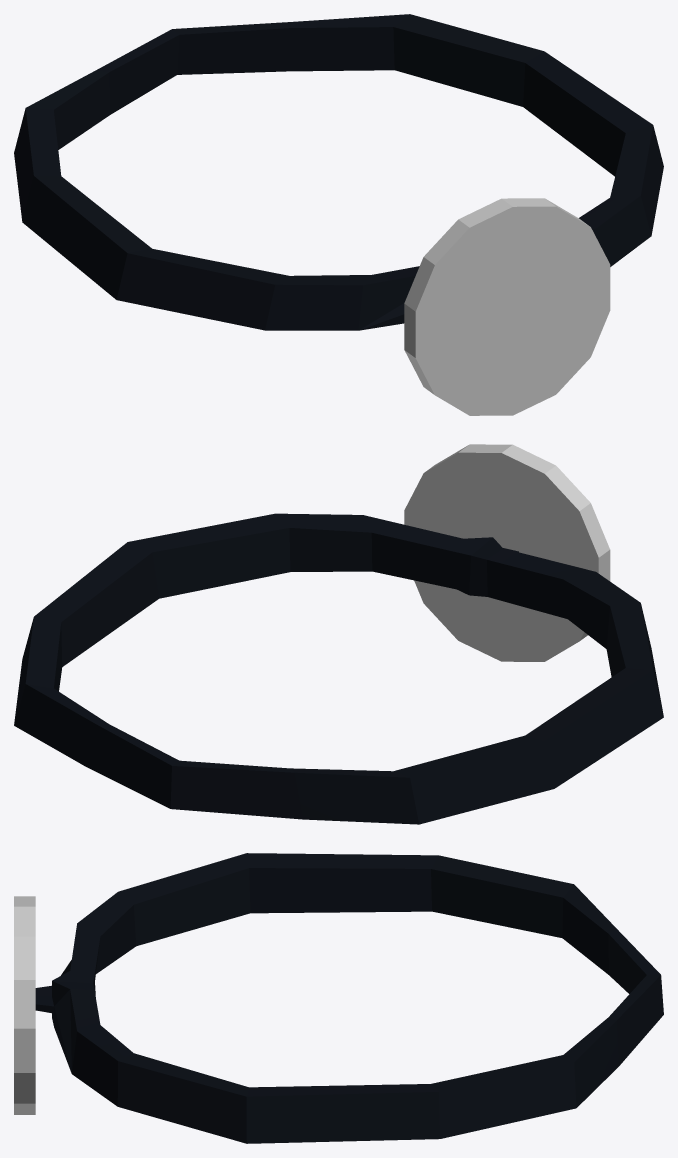
Rendered from foreheadmirror.fbx.
3 renders of one model, top to bottom at view 1: azimuth 30°, elevation 25°; view 2: azimuth 150°, elevation 25°; view 3: azimuth 270°, elevation 25°, orthographic. The views are drawn at different scales.
Parts seen in each view (by area): view 1: foreheadmirror; view 2: foreheadmirror; view 3: foreheadmirror.
Boxes of the visible parts, x1,y1,x2,y2 form: foreheadmirror: (14,14,663,415); foreheadmirror: (14,444,663,824); foreheadmirror: (14,853,663,1143).
Size of the model in its own units: 24.77 by 9.03 by 26.83.
